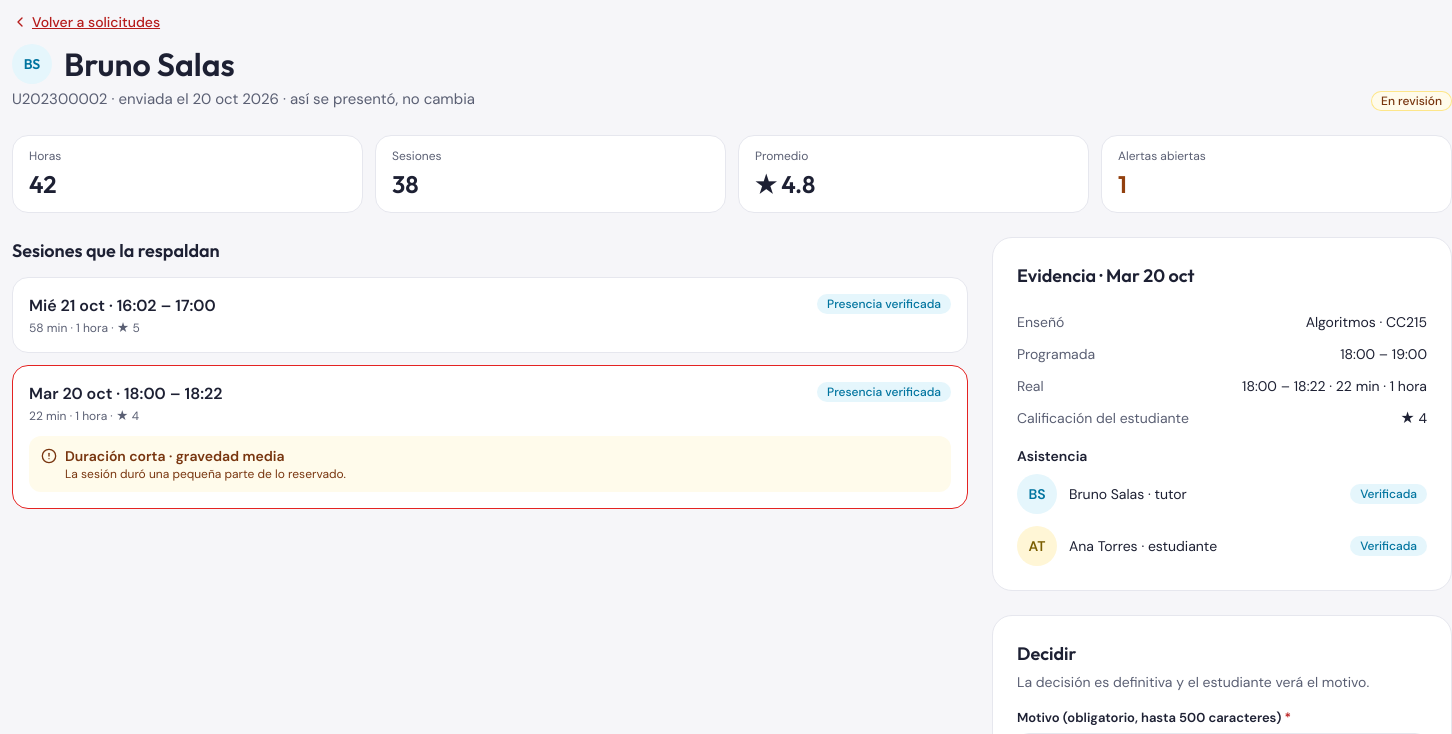
it: FE-51 RecognitionCasePage › shows the evidence of another session when the coordinator chooses it
Expected: the text "Algoritmos · CC215" is shown, [1306,312,1427,332]
Click the button with aria-label "Ver la evidencia de la sesión del Mié 21 oct, 16:02 – 17:00".
click(122, 305)  # box [12,276,968,352]
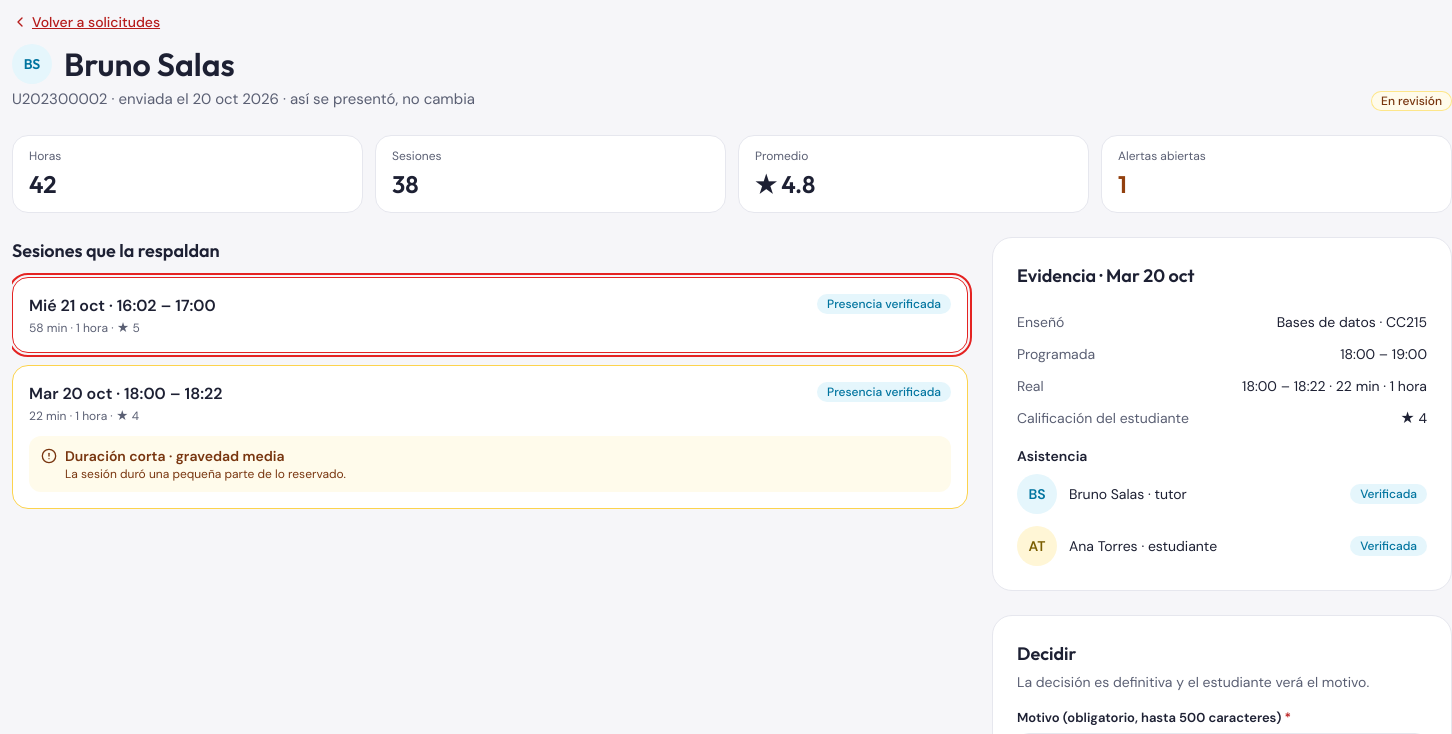
Now the text "Bases de datos · CC215" is shown, box [1277,312,1427,332]
